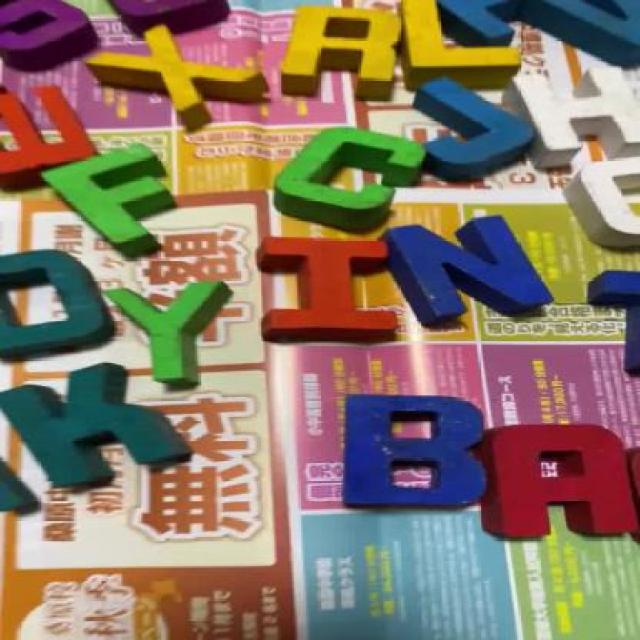A: (484, 420, 631, 538)
B: (316, 388, 489, 508)
C: (273, 123, 412, 232)
D: (0, 245, 100, 362)
F: (47, 148, 195, 257)
H: (522, 68, 640, 158)
I: (257, 237, 388, 335)
J: (412, 81, 540, 182)
K: (14, 364, 186, 484)
L: (392, 1, 522, 84)
N: (386, 213, 542, 324)
R: (272, 5, 405, 86)
X: (88, 26, 274, 122)
Y: (118, 283, 236, 382)
